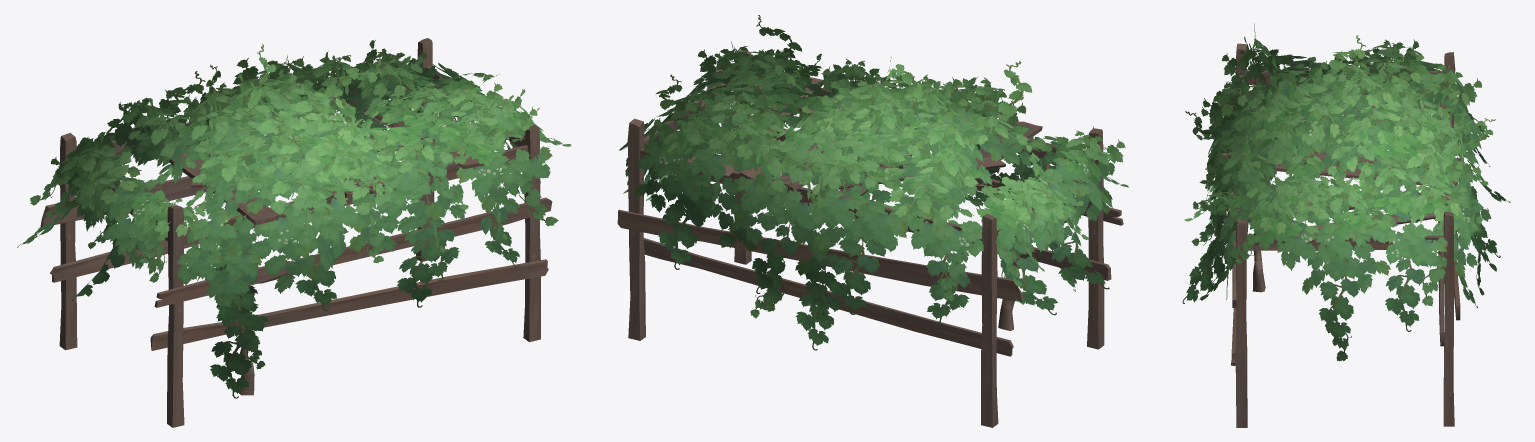
Rendered from Homeworld_Exterior_Md_Flower_Flowerpot_02_Lod0.fbx.
3 views of the same model, side by side, from view 1: azimuth 30°, elevation 25°; view 2: azimuth 150°, elevation 25°; view 3: azimuth 270°, elevation 25° (orthographic). The views are drawn at different scales.
Parts seen in each view (by area): view 1: Area_ManorProps_GrapeStick03a_Lod0, Area_ManorProps_GrapeStick03b_Lod0; view 2: Area_ManorProps_GrapeStick03a_Lod0, Area_ManorProps_GrapeStick03b_Lod0; view 3: Area_ManorProps_GrapeStick03a_Lod0, Area_ManorProps_GrapeStick03b_Lod0.
Part boxes in pixels (left/top/right/bottom): Area_ManorProps_GrapeStick03a_Lod0: left=17, top=40, right=571, bottom=398; Area_ManorProps_GrapeStick03b_Lod0: left=40, top=38, right=552, bottom=427; Area_ManorProps_GrapeStick03a_Lod0: left=619, top=15, right=1128, bottom=350; Area_ManorProps_GrapeStick03b_Lod0: left=617, top=49, right=1123, bottom=427; Area_ManorProps_GrapeStick03a_Lod0: left=1182, top=23, right=1510, bottom=361; Area_ManorProps_GrapeStick03b_Lod0: left=1217, top=43, right=1460, bottom=427.
Size of the model in its own units: 6.89 by 4.07 by 4.42.
